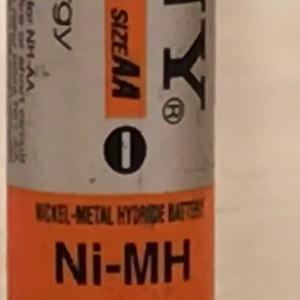NI-MH: (45, 229, 200, 296)
